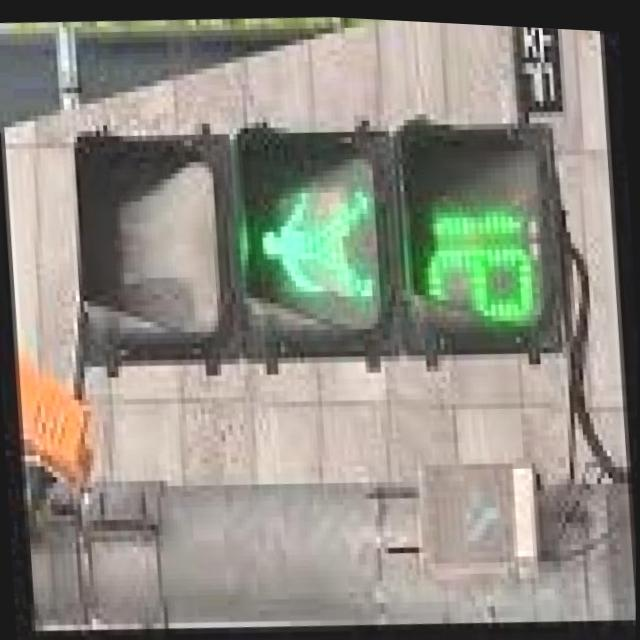green_light: (254, 119, 560, 354)
